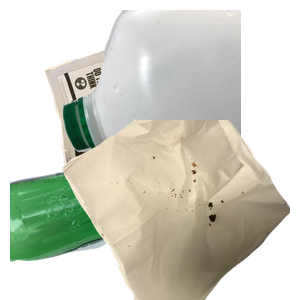glass: (10, 149, 203, 300)
paper: (42, 21, 249, 181)
plastic: (60, 10, 300, 190)
trash: (60, 120, 300, 300)
